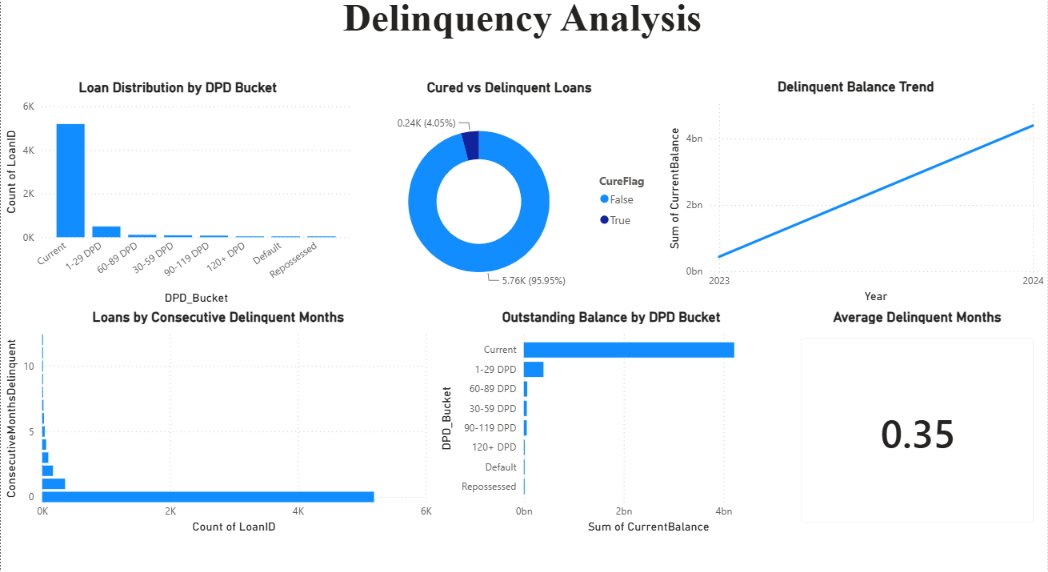

What the dashboard file says about the page in this screenshot:
{"tool":"powerbi","page":{"name":"Delinquency Analysis","canvas":[1280,720],"ordinal":2},"visuals":[{"type":"clusteredColumnChart","title":"Loan Distribution by DPD Bucket","fields":{"Category":["dpd_snapshot_history.DPD_Bucket"],"Y":["CountNonNull(dpd_snapshot_history.LoanID)"]},"box":[0,107.4,432.9,280],"z":0},{"type":"textbox","box":[413.3,0,452.4,72.1],"z":1000},{"type":"donutChart","title":"Cured vs Delinquent Loans","fields":{"Category":["dpd_snapshot_history.CureFlag"],"Y":["CountNonNull(dpd_snapshot_history.LoanID)"]},"box":[432.9,107.4,377.9,280],"z":2000},{"type":"lineChart","title":"Delinquent Balance Trend","fields":{"Category":["dpd_snapshot_history.SnapshotDate.Variation.Date Hierarchy.Year","dpd_snapshot_history.SnapshotDate.Variation.Date Hierarchy.Quarter","dpd_snapshot_history.SnapshotDate.Variation.Date Hierarchy.Month","dpd_snapshot_history.SnapshotDate.Variation.Date Hierarchy.Day"],"Y":["Sum(dpd_snapshot_history.CurrentBalance)"]},"box":[810.7,106.4,469.6,280],"z":3000},{"type":"clusteredBarChart","title":"Loans by Consecutive Delinquent Months","fields":{"Category":["dpd_snapshot_history.ConsecutiveMonthsDelinquent"],"Y":["CountNonNull(dpd_snapshot_history.LoanID)"]},"box":[0,387.6,531.9,280],"z":4000},{"type":"clusteredBarChart","title":"Outstanding Balance by DPD Bucket","fields":{"Category":["dpd_snapshot_history.DPD_Bucket"],"Y":["Sum(dpd_snapshot_history.CurrentBalance)"]},"box":[531.9,387.6,429.2,280],"z":5000},{"type":"cardVisual","title":"Average Delinquent Months","fields":{"Data":["Avg(dpd_snapshot_history.ConsecutiveMonthsDelinquent)"]},"box":[961,388,319,280],"z":6000}]}

Visuals, with their boxes on the page's 1280x720 design canvas (x1, y1, x2, y2). These are canvas units, not pixel positions in the 1048x572 screenshot, which may show the page scaled, cropped or inside an application window:
"Loan Distribution by DPD Bucket" clusteredColumnChart: Rect(0, 107, 433, 387)
textbox: Rect(413, 0, 866, 72)
"Cured vs Delinquent Loans" donutChart: Rect(433, 107, 811, 387)
"Delinquent Balance Trend" lineChart: Rect(811, 106, 1280, 386)
"Loans by Consecutive Delinquent Months" clusteredBarChart: Rect(0, 388, 532, 668)
"Outstanding Balance by DPD Bucket" clusteredBarChart: Rect(532, 388, 961, 668)
"Average Delinquent Months" cardVisual: Rect(961, 388, 1280, 668)
